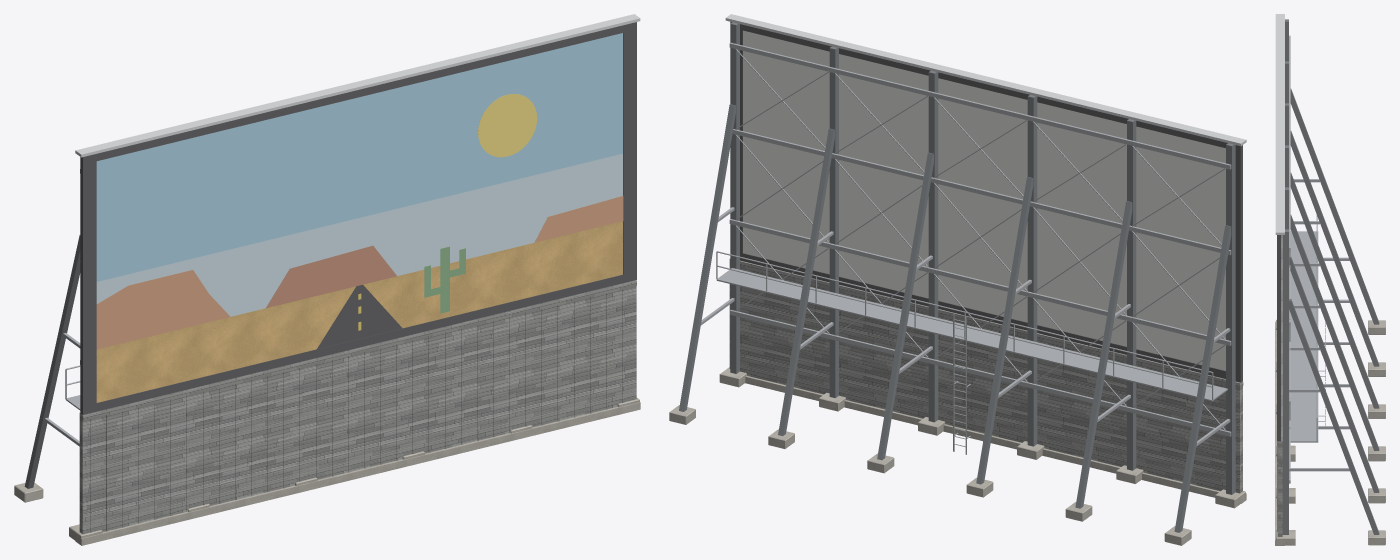
File: screen.glb
3 views of the same model, side by side, from view 1: azimuth 30°, elevation 25°; view 2: azimuth 150°, elevation 25°; view 3: azimuth 270°, elevation 25° (orthographic). The views are drawn at different scales.
Visible parts, largest first — view 1: screen_boards, screen_sky1, screen_sand, screen_sky2, screen_dark, screen_mesa, screen_concrete, screen_metal, screen_mesa2, screen_sun, screen_steel_d, screen_cactus; view 2: screen_screen_w, screen_boards, screen_steel_d, screen_steel, screen_dark, screen_concrete, screen_metal; view 3: screen_steel_d, screen_steel, screen_concrete, screen_metal, screen_dark, screen_boards.
Boxes of the visible parts, x1=… form: screen_boards: x1=79, y1=280, x2=636, y2=534; screen_sky1: x1=96, y1=33, x2=622, y2=281; screen_sand: x1=96, y1=221, x2=622, y2=402; screen_sky2: x1=96, y1=153, x2=622, y2=316; screen_dark: x1=80, y1=22, x2=636, y2=414; screen_mesa: x1=96, y1=196, x2=623, y2=349; screen_concrete: x1=14, y1=397, x2=640, y2=545; screen_metal: x1=75, y1=14, x2=640, y2=157; screen_mesa2: x1=266, y1=245, x2=396, y2=308; screen_sun: x1=478, y1=94, x2=537, y2=157; screen_steel_d: x1=24, y1=235, x2=80, y2=488; screen_cactus: x1=424, y1=246, x2=465, y2=313; screen_screen_w: x1=743, y1=30, x2=1225, y2=370; screen_boards: x1=729, y1=258, x2=1243, y2=493; screen_steel_d: x1=679, y1=22, x2=1235, y2=532; screen_steel: x1=701, y1=42, x2=1231, y2=454; screen_dark: x1=730, y1=22, x2=1242, y2=382; screen_concrete: x1=669, y1=367, x2=1246, y2=545; screen_metal: x1=725, y1=14, x2=1246, y2=146; screen_steel_d: x1=1282, y1=19, x2=1379, y2=534; screen_steel: x1=1289, y1=35, x2=1349, y2=483; screen_concrete: x1=1275, y1=319, x2=1385, y2=545; screen_metal: x1=1275, y1=14, x2=1284, y2=234; screen_dark: x1=1277, y1=235, x2=1281, y2=441; screen_boards: x1=1277, y1=235, x2=1282, y2=536.
Size of the model in its own units: 20.8 by 13.9 by 4.45.
Materials: 15 (3 with a texture image).
